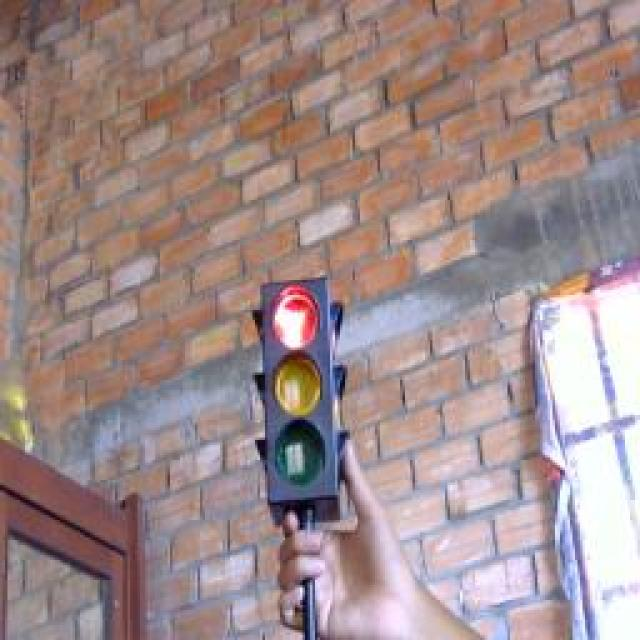-: (264, 280, 326, 352)
